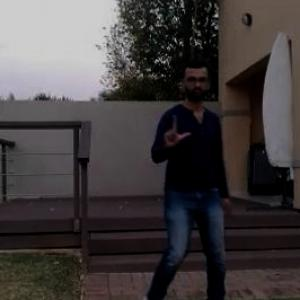land_hand: (156, 114, 190, 157)
